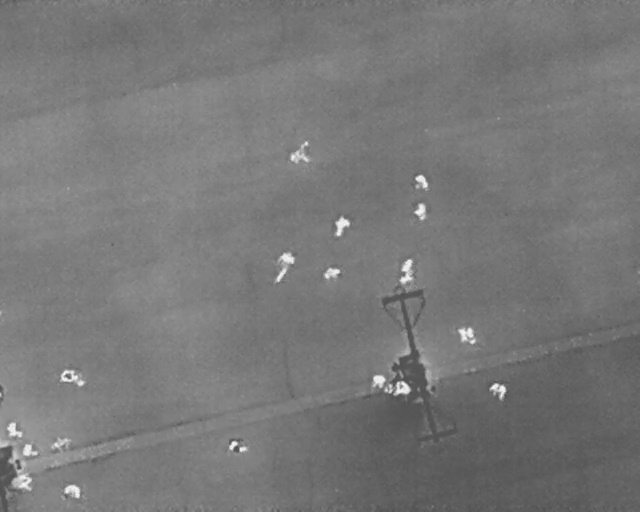Person: (269, 247, 298, 285), (57, 369, 88, 386), (290, 140, 311, 164), (9, 473, 35, 492), (319, 263, 343, 281), (334, 213, 351, 237), (458, 326, 476, 346), (61, 484, 83, 500), (227, 437, 247, 454), (490, 382, 506, 402), (7, 421, 23, 438), (413, 203, 428, 221), (395, 381, 411, 397), (397, 271, 414, 286), (413, 173, 428, 189), (21, 442, 38, 456), (372, 374, 385, 389), (401, 257, 413, 272)
